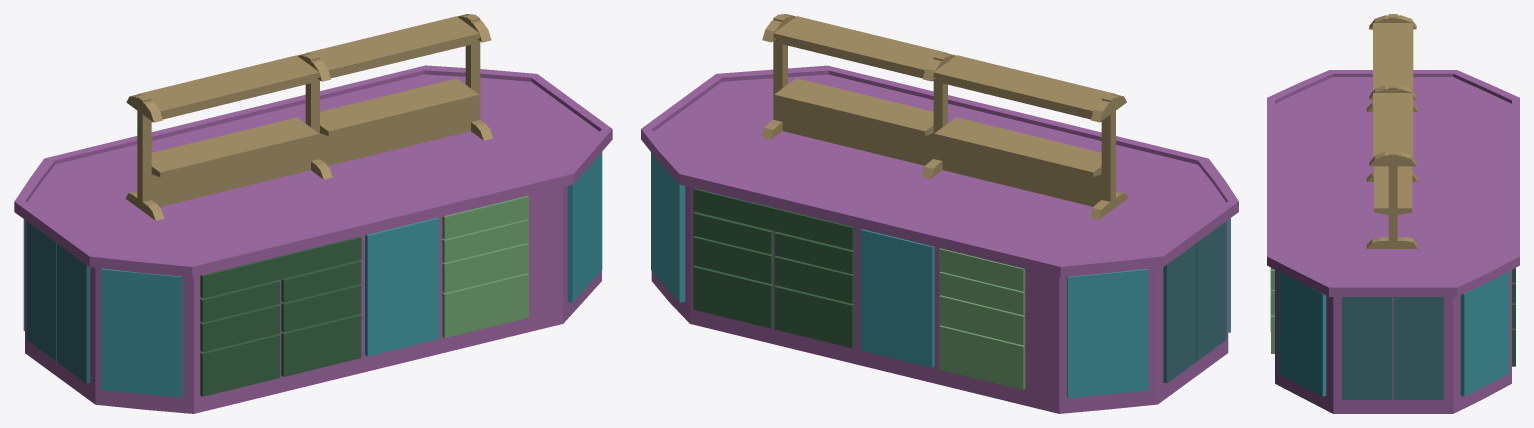
File: Mesa.fbx
3 renders of one model, left to right at view 1: azimuth 30°, elevation 25°; view 2: azimuth 150°, elevation 25°; view 3: azimuth 270°, elevation 25°, orthographic. The views are drawn at different scales.
Parts seen in each view (by area): view 1: pCube44, pCube40, polySurface190, polySurface181, polySurface179; view 2: pCube44, pCube40, polySurface190, polySurface181, polySurface179; view 3: pCube44, polySurface190, pCube40, polySurface179, polySurface181.
Boxes of the visible parts, <box> form: pCube44: <box>14,65,612,413</box>; pCube40: <box>125,14,492,220</box>; polySurface190: <box>23,152,602,397</box>; polySurface181: <box>200,236,361,396</box>; polySurface179: <box>442,196,528,337</box>; pCube44: <box>641,65,1238,413</box>; pCube40: <box>761,14,1128,219</box>; polySurface190: <box>651,152,1230,398</box>; polySurface181: <box>693,188,854,348</box>; polySurface179: <box>939,248,1025,390</box>; pCube44: <box>1267,70,1519,413</box>; polySurface190: <box>1278,271,1509,399</box>; pCube40: <box>1366,14,1417,248</box>; polySurface179: <box>1270,268,1274,353</box>; polySurface181: <box>1512,268,1515,366</box>.
Bounding box in the file's own units: 9.65 × 4.6 × 4.74.
